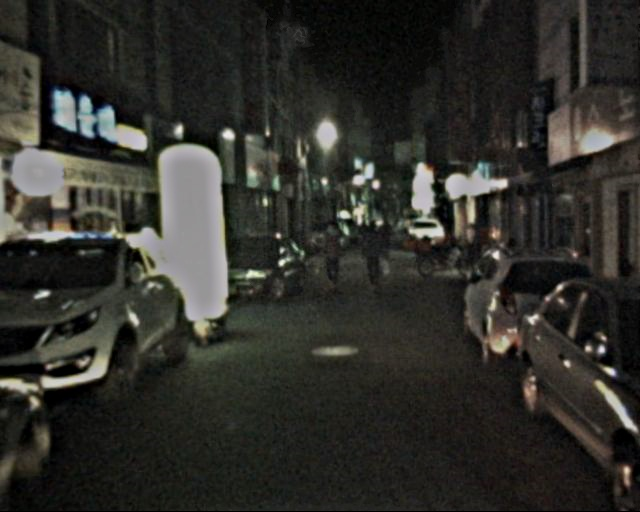person: (317, 221, 346, 291), (358, 224, 385, 291)
